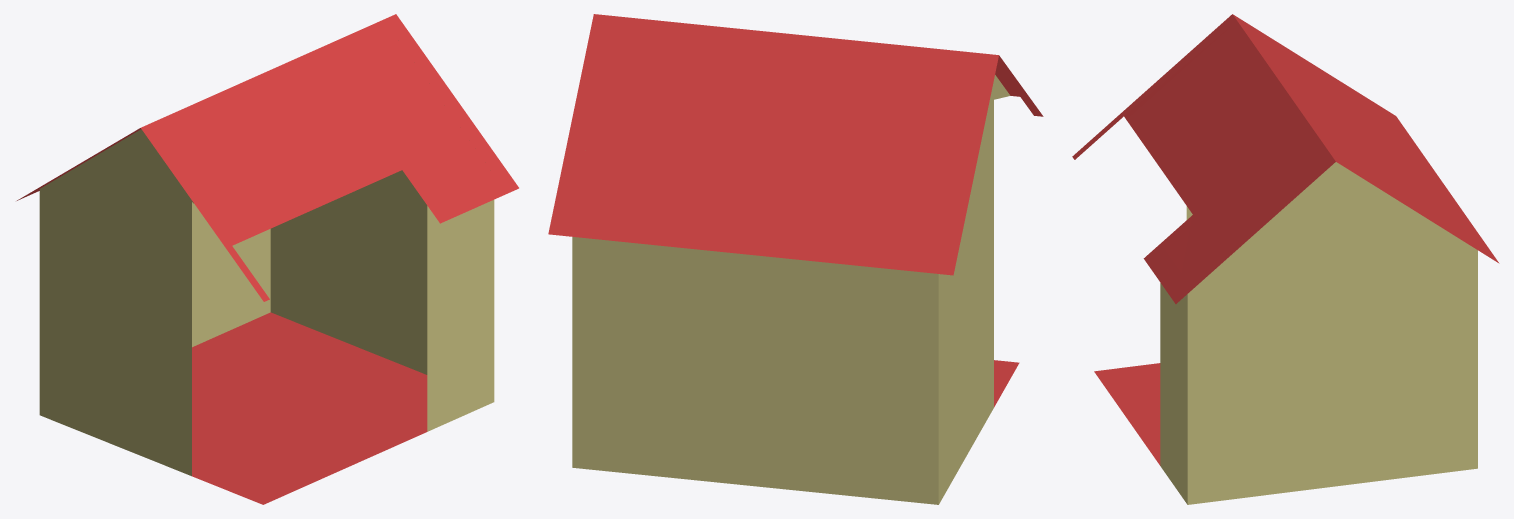
The picture shows the model from 3 angles, left to right: view 1: azimuth 30°, elevation 25°; view 2: azimuth 150°, elevation 25°; view 3: azimuth 270°, elevation 25°; orthographic projection. The views are drawn at different scales.
Bounding box in the file's own units: 12.75 × 12.23 × 10.49.
